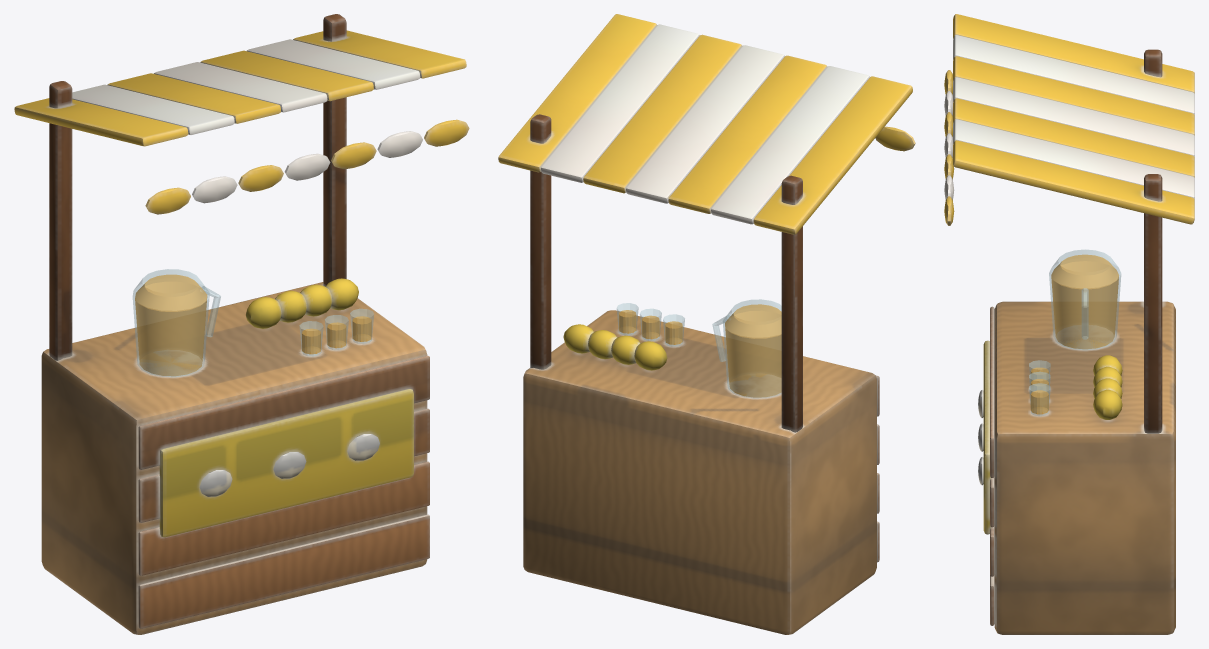
The model's file is lemonade_stand.glb.
The picture shows the model from 3 angles, left to right: view 1: azimuth 30°, elevation 25°; view 2: azimuth 150°, elevation 25°; view 3: azimuth 270°, elevation 25°; orthographic projection. The views are drawn at different scales.
Visible parts, largest first — view 1: SM_LemonadeStand; view 2: SM_LemonadeStand; view 3: SM_LemonadeStand.
Boxes of the visible parts, bbox=[...] form: SM_LemonadeStand: bbox=[14, 14, 469, 634]; SM_LemonadeStand: bbox=[498, 14, 915, 634]; SM_LemonadeStand: bbox=[944, 14, 1194, 634].
Size of what is drawn, in the model's own units: 1.54 by 2.36 by 1.11.
Materials: 3 (1 with a texture image).
